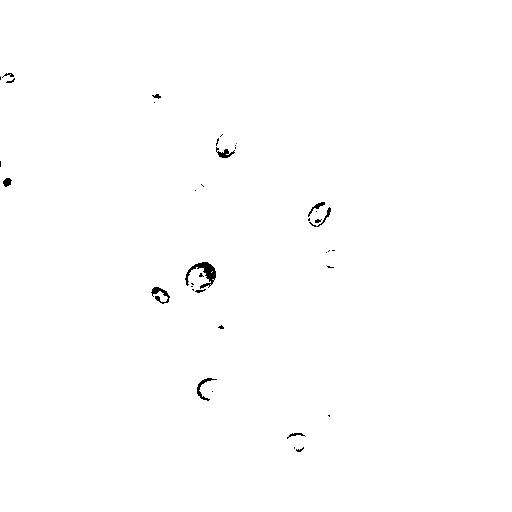micro-algae: (144, 196, 186, 243), (183, 260, 219, 295), (193, 375, 227, 403), (213, 129, 241, 161), (281, 429, 311, 458), (1, 165, 24, 200), (307, 200, 334, 227), (323, 247, 347, 269), (151, 285, 172, 307), (0, 71, 17, 85), (195, 182, 209, 197)
